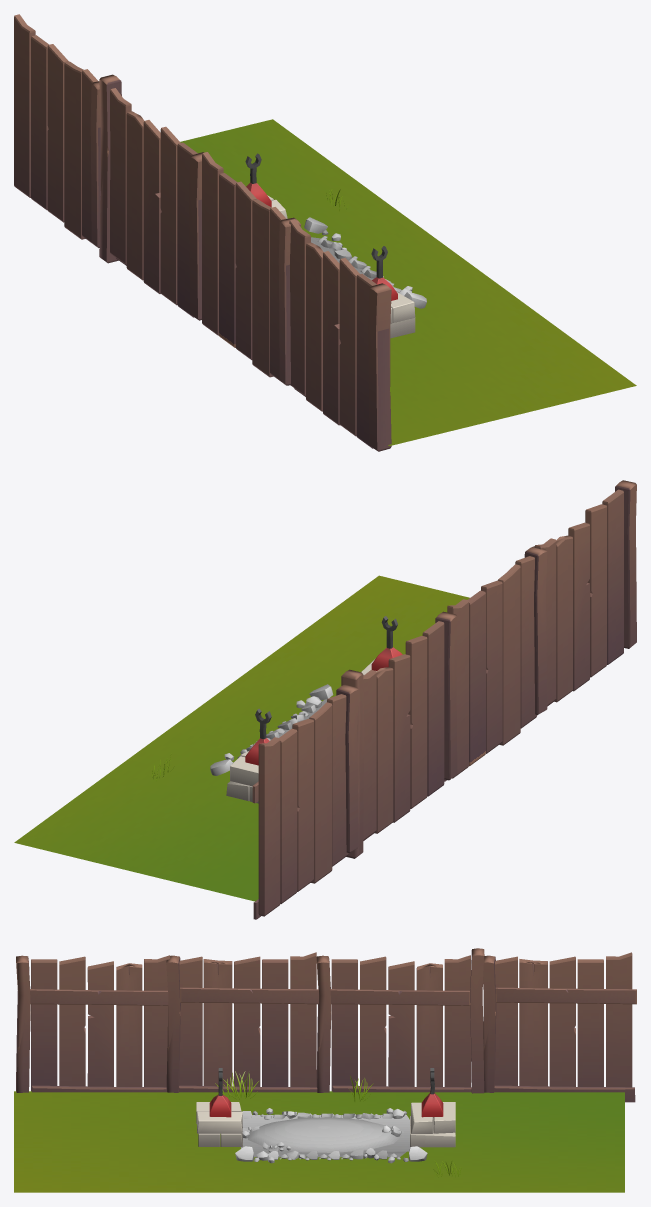
Rendered from LichonBG.FBX.
3 renders of one model, top to bottom at view 1: azimuth 30°, elevation 25°; view 2: azimuth 150°, elevation 25°; view 3: azimuth 270°, elevation 25°, orthographic. The views are drawn at different scales.
Visible parts, largest first — view 1: Box011; view 2: Box011; view 3: Box011.
Part boxes in pixels (<box>): Box011: <box>14,14,636,451</box>; Box011: <box>14,480,636,919</box>; Box011: <box>14,948,636,1192</box>.
Bounding box in the file's own units: 190 × 127 × 469.
Materials: 7 (7 with a texture image).
